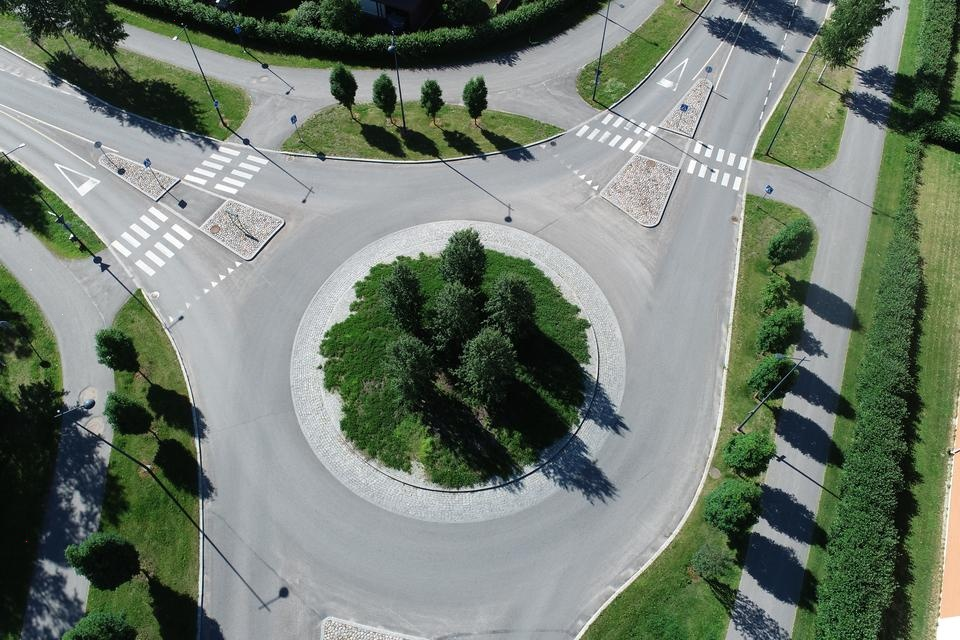roundabout: (168, 126, 746, 619)
